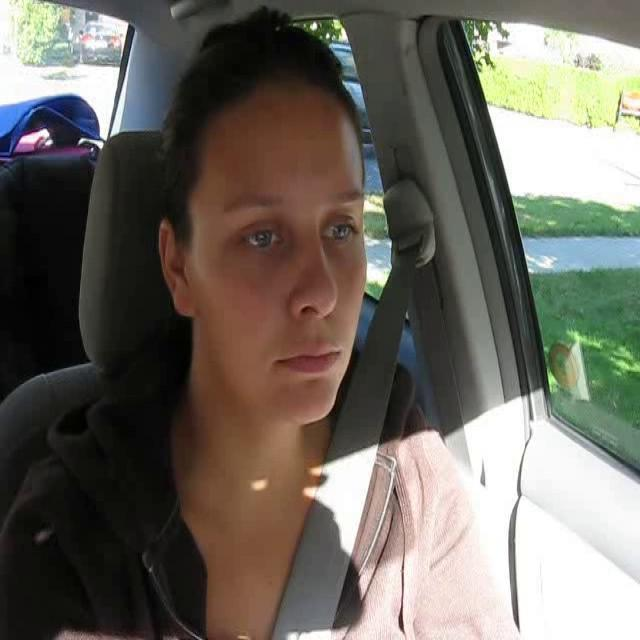open: (214, 191, 294, 267), (314, 182, 370, 264)
